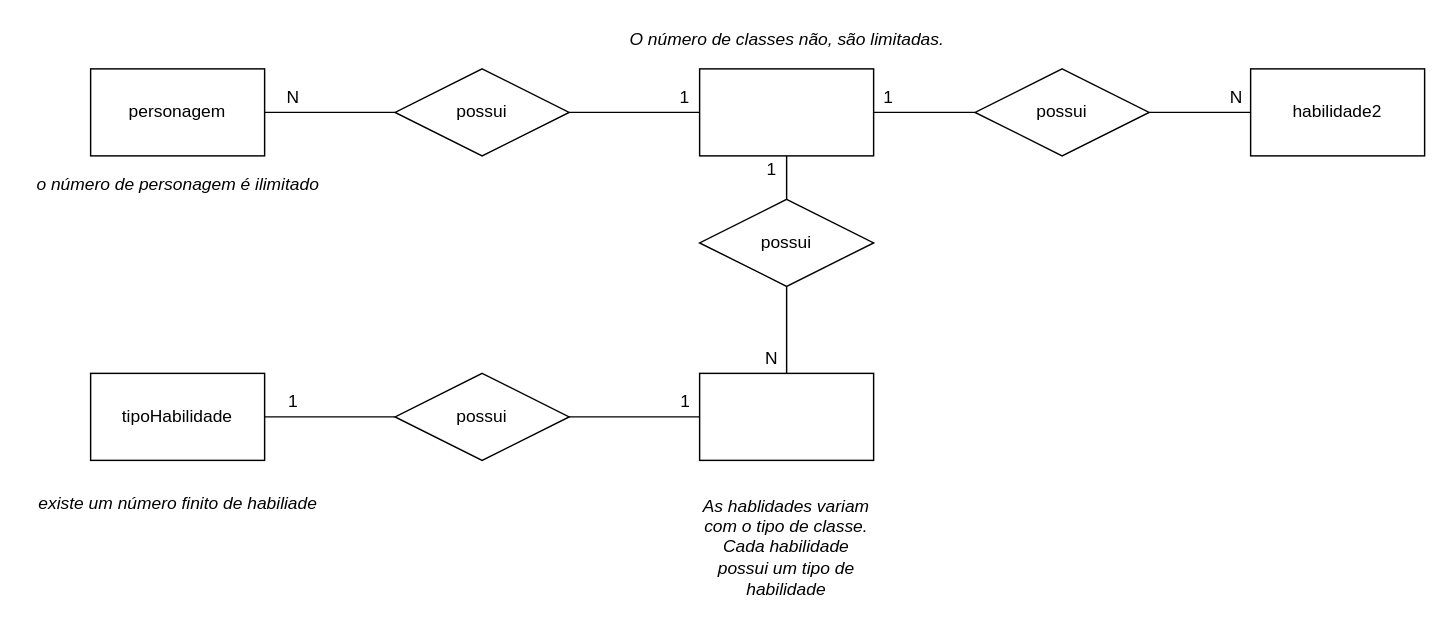
Some shapes in this 1450 by 644 pixel diagram are drawn without their labels. The box of each missing label's shape, as (x1, y1, x2, y2) in pixels:
classe: (698, 67, 874, 156)
habilidade1: (698, 372, 874, 460)
